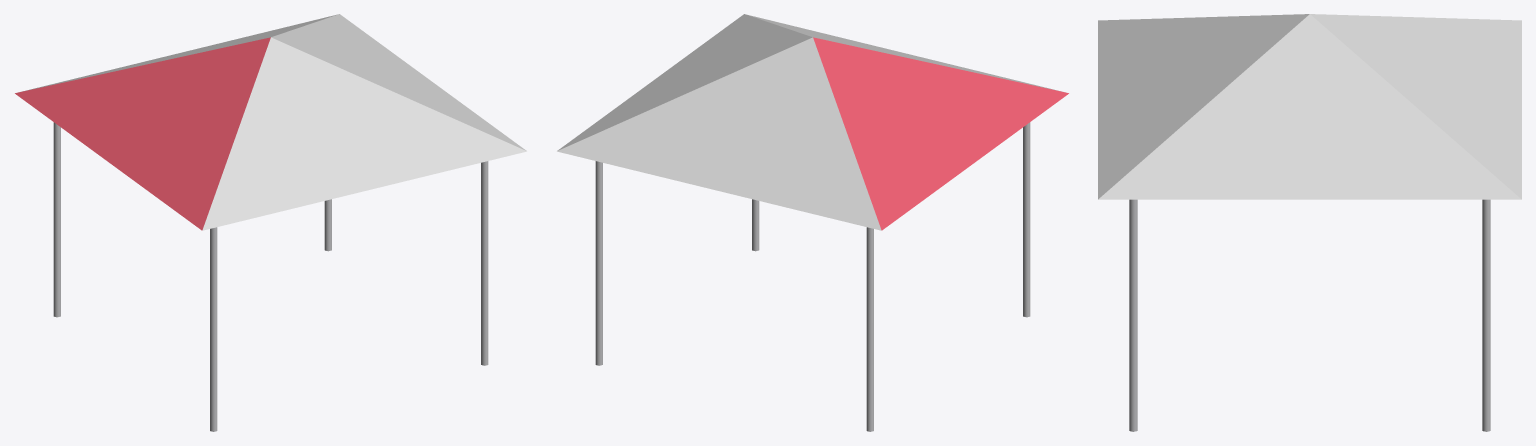
Rendered from event_tent.glb.
3 renders of one model, left to right at view 1: azimuth 30°, elevation 25°; view 2: azimuth 150°, elevation 25°; view 3: azimuth 270°, elevation 25°, orthographic. The views are drawn at different scales.
Parts seen in each view (by area): view 1: event_tent; view 2: event_tent; view 3: event_tent.
Boxes of the visible parts, <box> form: event_tent: <box>15,14,526,431</box>; event_tent: <box>557,14,1068,431</box>; event_tent: <box>1098,14,1521,431</box>.
Bounding box in the file's own units: 3.6 × 3.2 × 3.6.
